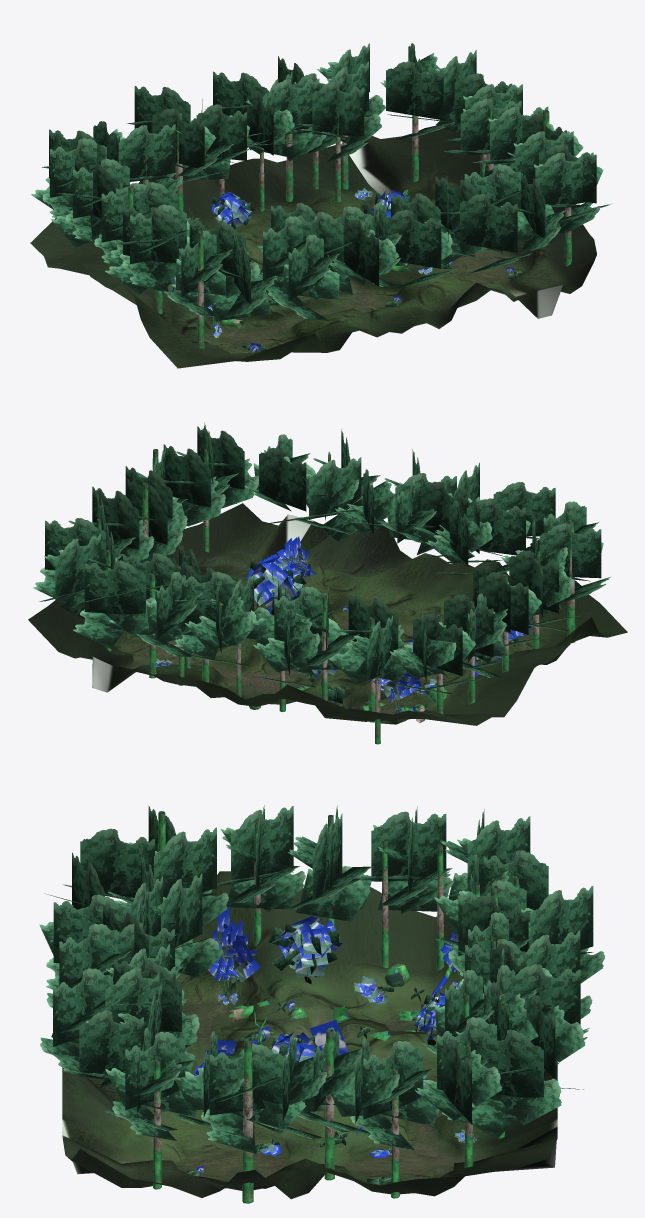
File: Prologue_BG_A.fbx
The picture shows the model from 3 angles, top to bottom: view 1: azimuth 30°, elevation 25°; view 2: azimuth 150°, elevation 25°; view 3: azimuth 270°, elevation 25°; orthographic projection. The views are drawn at different scales.
Visible parts, largest first — view 1: Sugi_Leafs, Filed, Sugi_Leafs1, Plants_mesh, Sugi_tree35; view 2: Sugi_Leafs1, Filed, Sugi_Leafs, Plants_mesh, Sugi_tree24, Sugi_tree35; view 3: Sugi_Leafs1, Sugi_Leafs, Filed, Plants_mesh, Sugi_tree29, Sugi_tree28, Sugi_tree38, Sugi_tree30, Sugi_tree39, Sugi_tree27.
Part boxes in pixels (<box>): Sugi_Leafs: <box>42,61,612,321</box>; Filed: <box>30,128,596,368</box>; Sugi_Leafs1: <box>31,43,600,307</box>; Plants_mesh: <box>166,188,522,352</box>; Sugi_tree35: <box>197,231,204,348</box>; Sugi_Leafs1: <box>33,426,572,694</box>; Filed: <box>28,503,627,725</box>; Sugi_Leafs: <box>68,422,611,691</box>; Plants_mesh: <box>134,536,530,713</box>; Sugi_tree24: <box>321,595,328,701</box>; Sugi_tree35: <box>567,519,575,643</box>; Sugi_Leafs1: <box>62,806,604,1141</box>; Sugi_Leafs: <box>39,805,551,1153</box>; Filed: <box>62,871,557,1199</box>; Plants_mesh: <box>185,906,477,1184</box>; Sugi_tree29: <box>242,1038,253,1203</box>; Sugi_tree28: <box>324,1029,334,1180</box>; Sugi_tree38: <box>381,839,388,968</box>; Sugi_tree30: <box>153,1059,161,1189</box>; Sugi_tree39: <box>436,844,444,970</box>; Sugi_tree27: <box>391,1068,399,1198</box>.
Bounding box in the file's own units: 11105 × 3516 × 9877.
